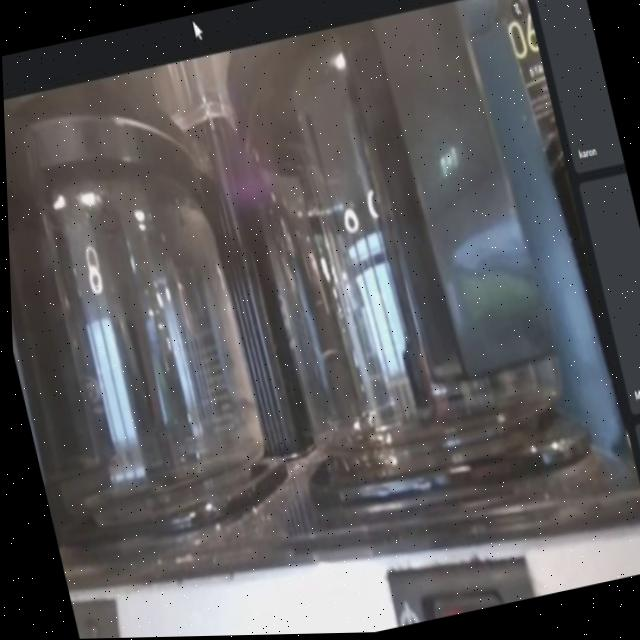nocoffee: (224, 0, 579, 507), (2, 61, 287, 543)
